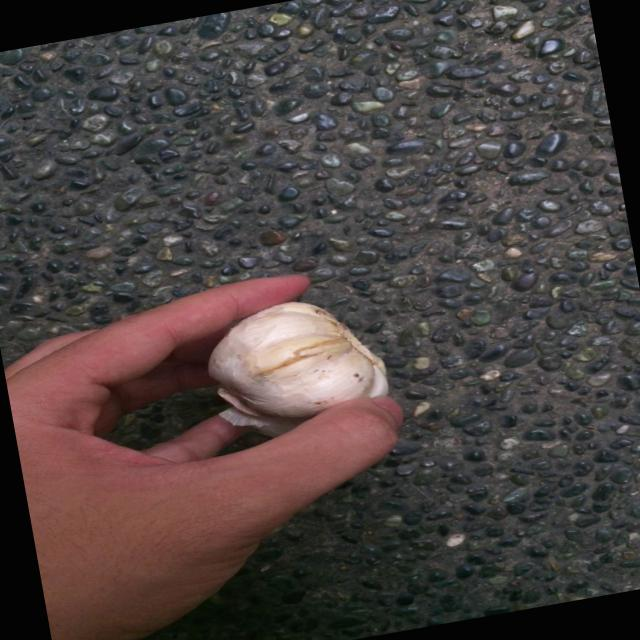garlic: (192, 281, 402, 448)
